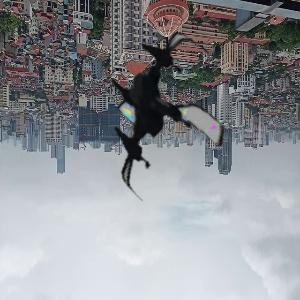drone: (83, 34, 239, 190)
